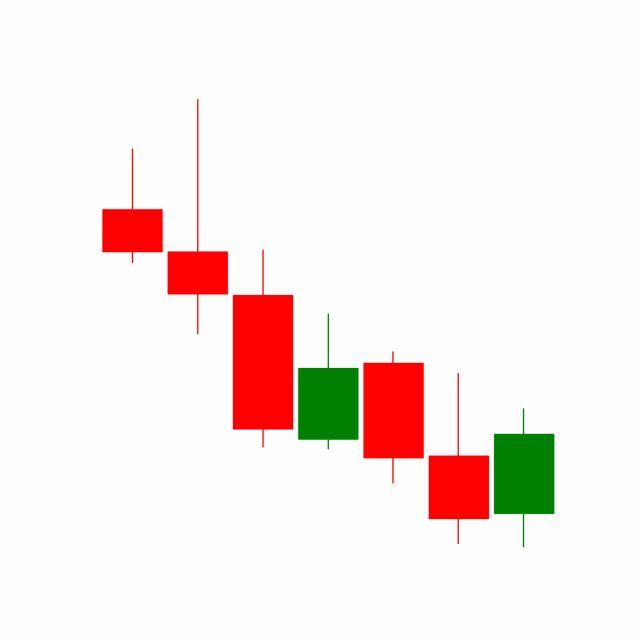Three Outside Up-Down: (295, 312, 492, 548)
